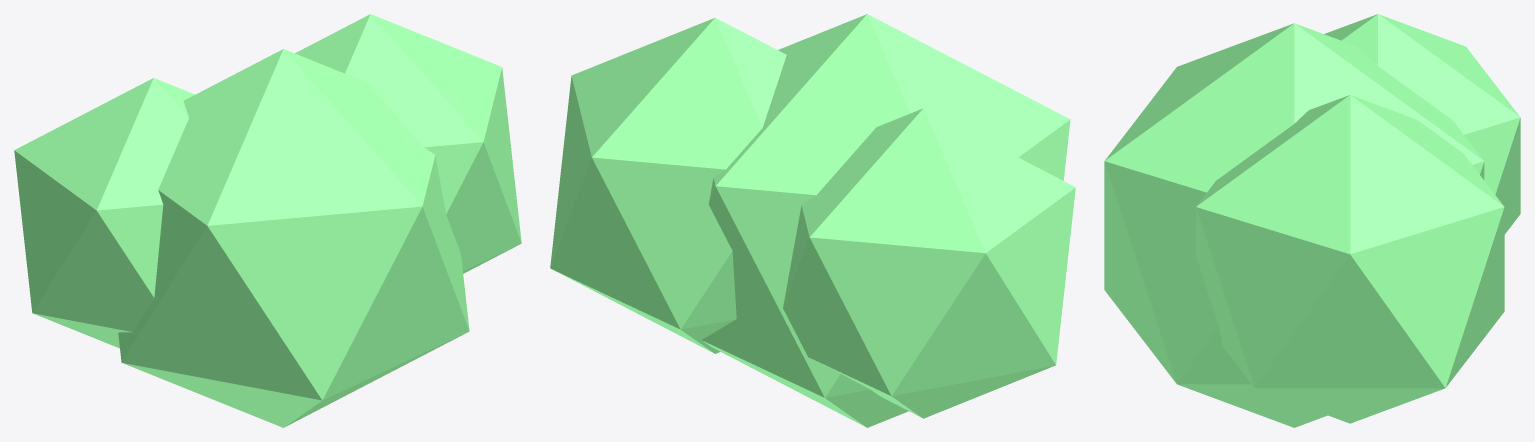
File: bush.glb
The picture shows the model from 3 angles, left to right: view 1: azimuth 30°, elevation 25°; view 2: azimuth 150°, elevation 25°; view 3: azimuth 270°, elevation 25°; orthographic projection. The views are drawn at different scales.
Visible parts, largest first — view 1: bush; view 2: bush; view 3: bush.
Part boxes in pixels (x1,y1,x2,y2): bush: [14, 14, 521, 427]; bush: [550, 14, 1075, 427]; bush: [1104, 14, 1520, 427].
Bounding box in the file's own units: 0.4036 × 0.32 × 0.2982.
